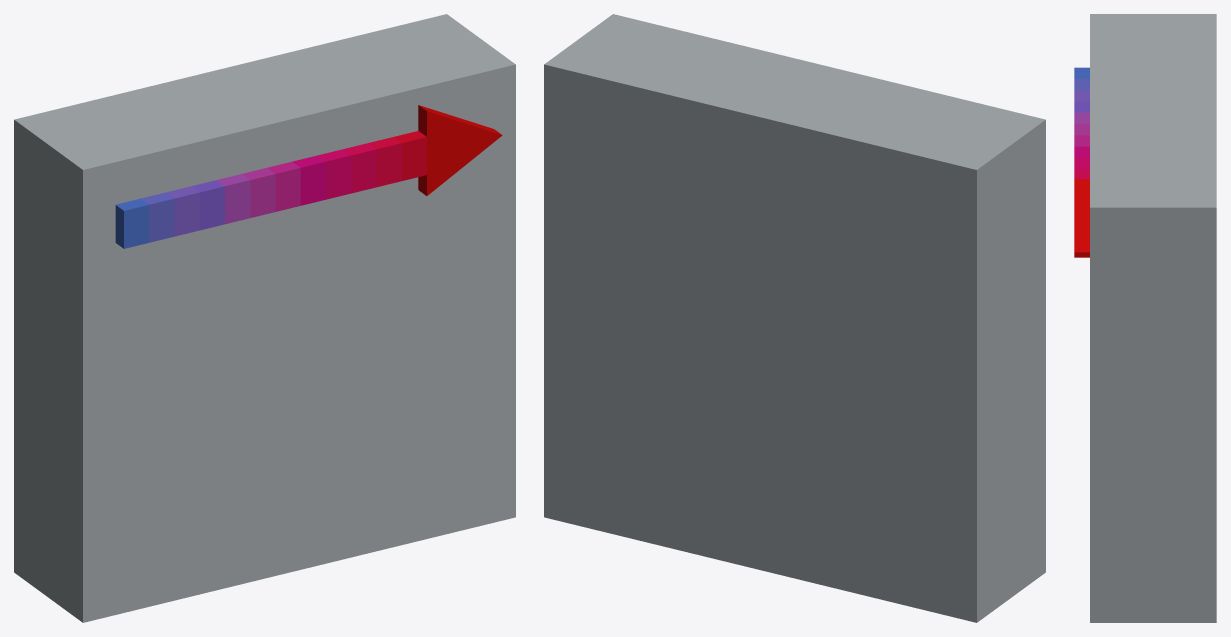
The model's file is tinker.obj.
3 views of the same model, side by side, from view 1: azimuth 30°, elevation 25°; view 2: azimuth 150°, elevation 25°; view 3: azimuth 270°, elevation 25° (orthographic). The views are drawn at different scales.
Parts seen in each view (by area): view 1: group_0_10988977, group_0_13631488, group_0_4484039, group_0_6382789, group_0_14286907, group_0_13500539, group_0_10765485, group_0_11875487, group_0_7754948, group_0_8018880, group_0_14024807, group_0_12787854 (+2 smaller); view 2: group_0_10988977; view 3: group_0_10988977, group_0_13631488.
Boxes of the visible parts, x1,y1,x2,y2 form: group_0_10988977: (14,14,515,622); group_0_13631488: (418,105,502,195); group_0_4484039: (115,198,148,248); group_0_6382789: (141,192,174,242); group_0_14286907: (368,137,401,187); group_0_13500539: (292,155,325,205); group_0_10765485: (216,174,250,224); group_0_11875487: (242,168,275,217); group_0_7754948: (191,180,224,230); group_0_8018880: (166,186,199,236); group_0_14024807: (318,149,351,199); group_0_12787854: (267,161,300,211); group_0_10988977: (544,14,1045,622); group_0_10988977: (1090,14,1216,622); group_0_13631488: (1074,179,1089,257).
Size of the model in its own units: 1 by 1 by 0.31.
